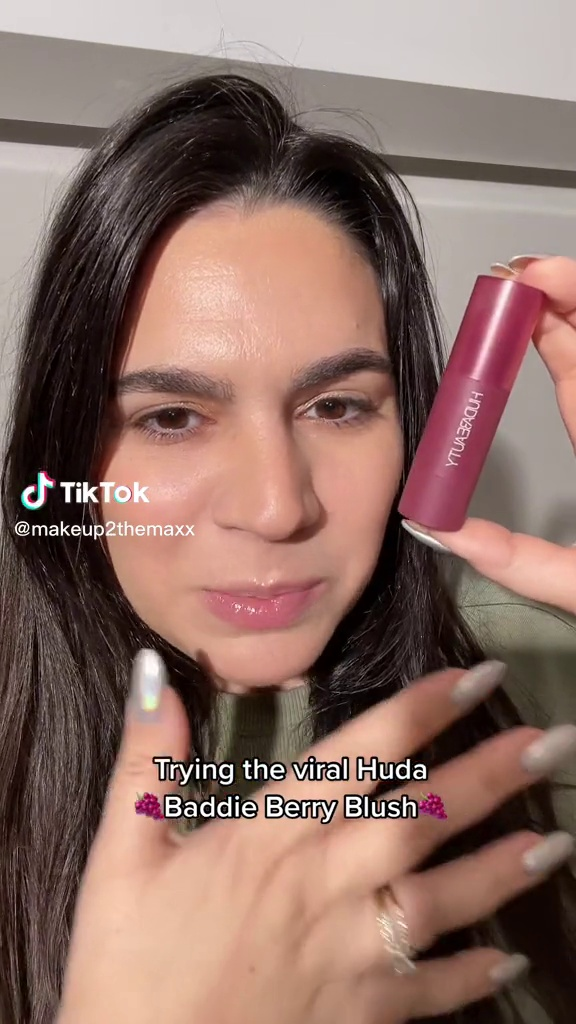train' :'yolo_data/train/images',: (388, 261, 559, 536)
